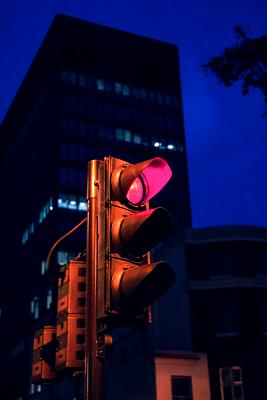International Road Signal Light: (103, 156, 176, 313)
